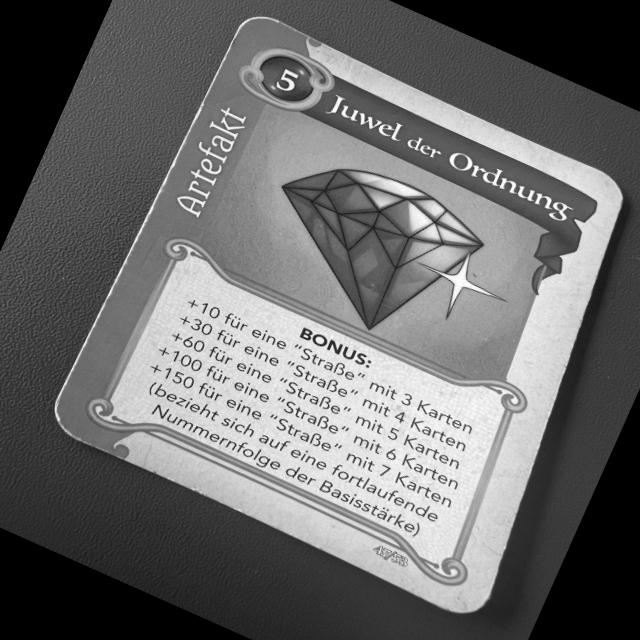Gem Of Order: (45, 5, 630, 623)
